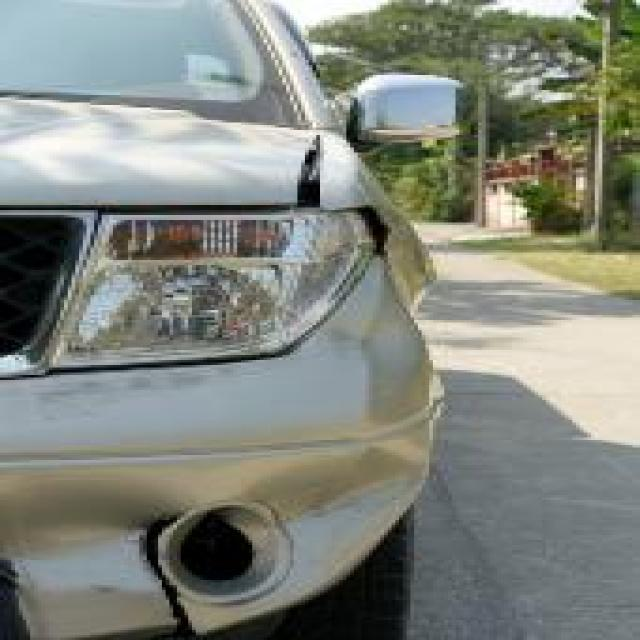Bonnet: (0, 130, 316, 202)
Bumper: (8, 335, 414, 640)
Fender: (301, 135, 459, 300)
